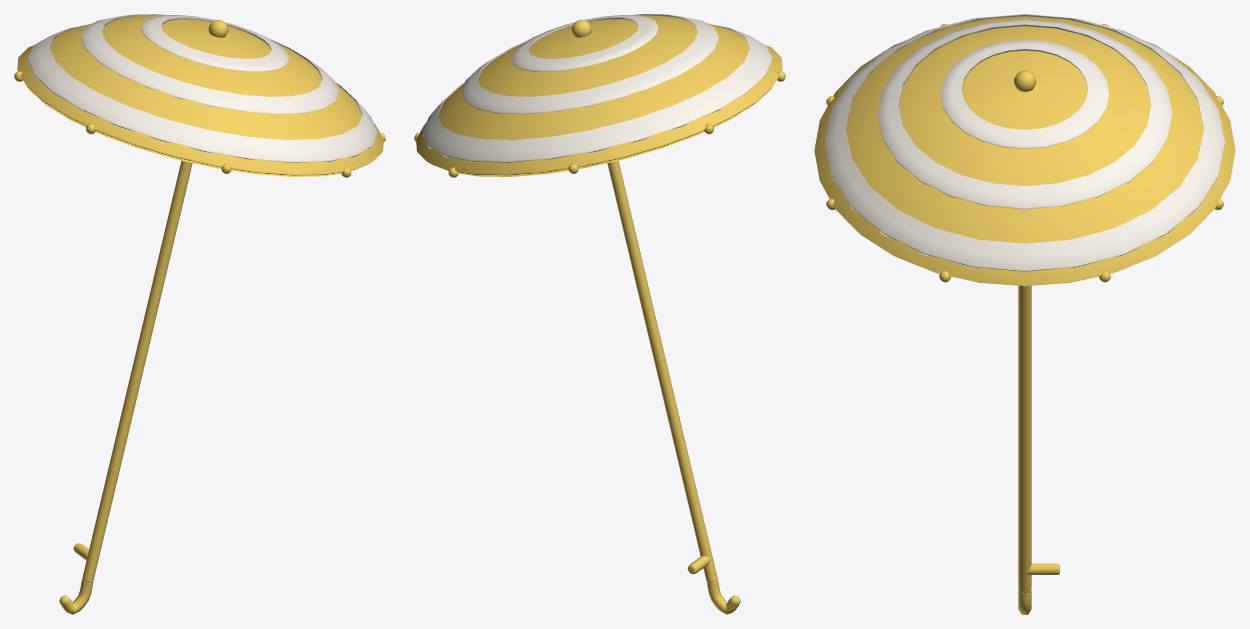
Rendered from lemon_umbrella.glb.
3 views of the same model, side by side, from view 1: azimuth 30°, elevation 25°; view 2: azimuth 150°, elevation 25°; view 3: azimuth 270°, elevation 25° (orthographic). The views are drawn at different scales.
Parts seen in each view (by area): view 1: lemon_umbrella_ArmR; view 2: lemon_umbrella_ArmR; view 3: lemon_umbrella_ArmR.
Boxes of the visible parts, bbox=[...] form: lemon_umbrella_ArmR: bbox=[14, 14, 385, 614]; lemon_umbrella_ArmR: bbox=[414, 14, 785, 614]; lemon_umbrella_ArmR: bbox=[814, 14, 1235, 614].
Bounding box in the file's own units: 0.8703 × 1.47 × 0.9.
